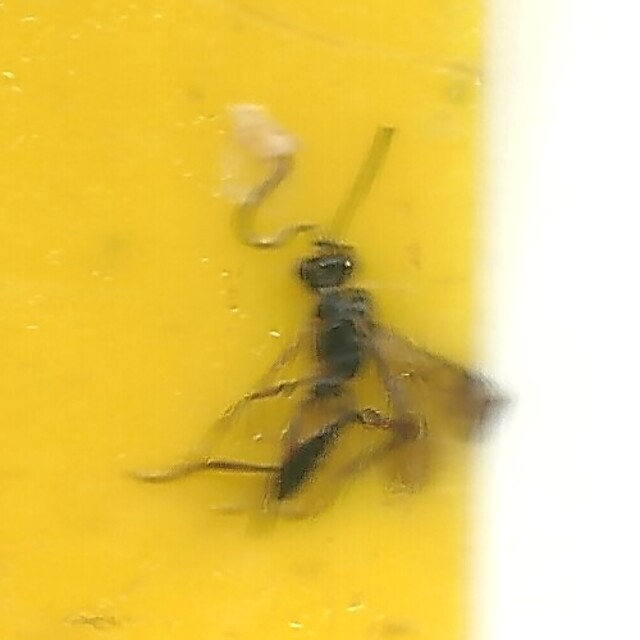Hymenoptera: (128, 129, 512, 511)
